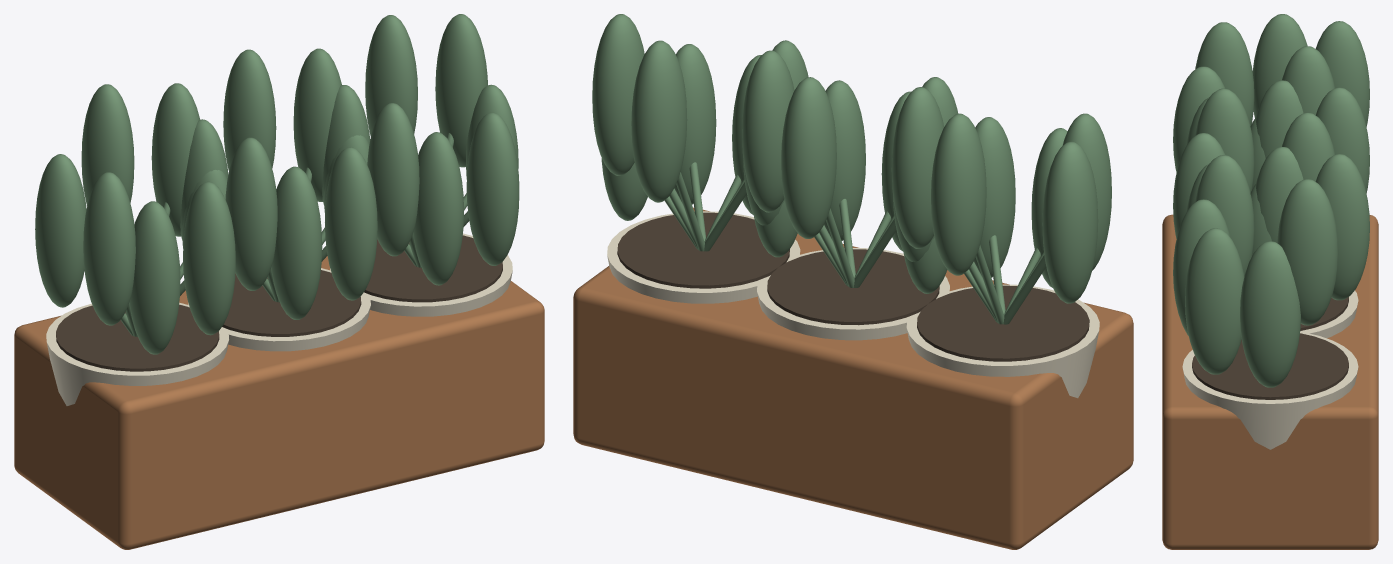
The model's file is planter.glb.
3 views of the same model, side by side, from view 1: azimuth 30°, elevation 25°; view 2: azimuth 150°, elevation 25°; view 3: azimuth 270°, elevation 25° (orthographic). The views are drawn at different scales.
Parts seen in each view (by area): view 1: planter; view 2: planter; view 3: planter.
Part boxes in pixels (<box>): planter: <box>14,14,544,549</box>; planter: <box>573,14,1133,549</box>; planter: <box>1162,14,1378,549</box>.
Bounding box in the file's own units: 1.32 × 1.03 × 0.55.
